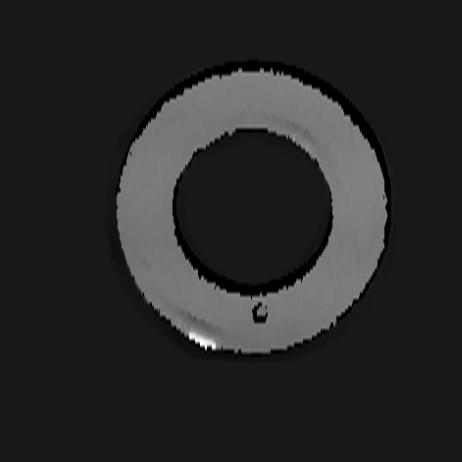defect: (251, 302, 269, 325)
